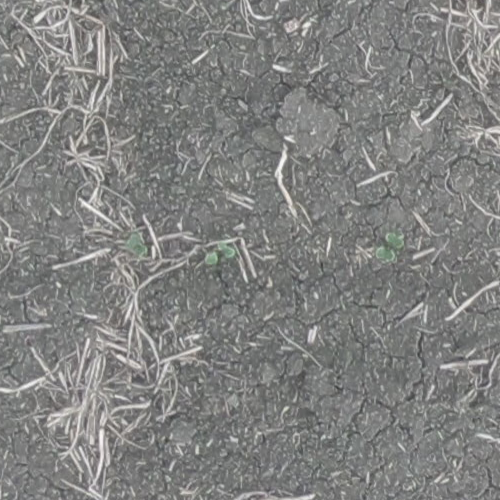plant: (378, 233, 406, 263), (204, 243, 235, 265), (126, 233, 147, 258)
